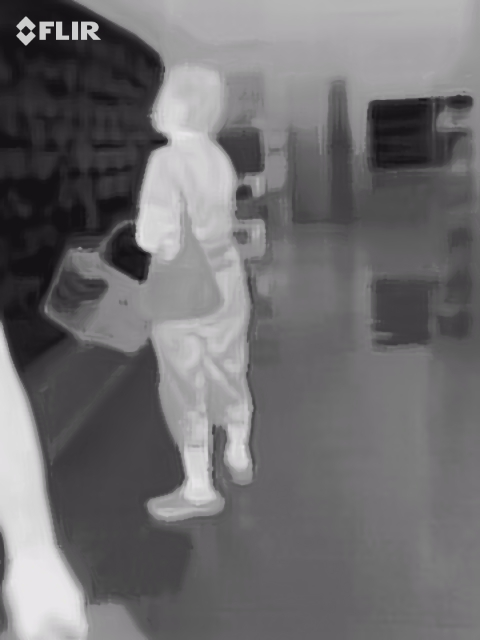head: (149, 67, 223, 138)
